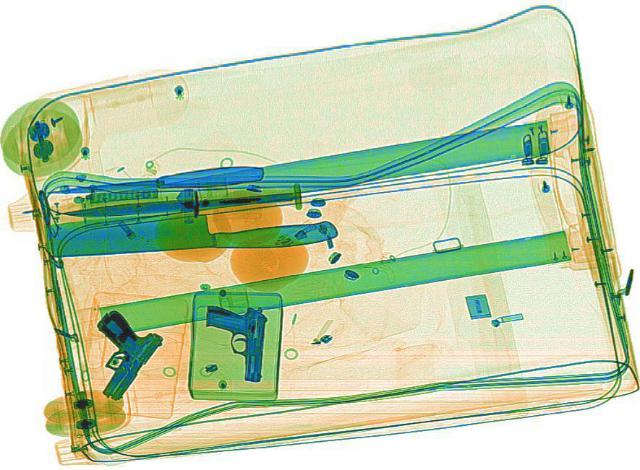Gun: (56, 306, 170, 399), (206, 304, 266, 381)
Knife: (42, 201, 338, 259), (42, 162, 264, 198), (56, 189, 294, 217)
